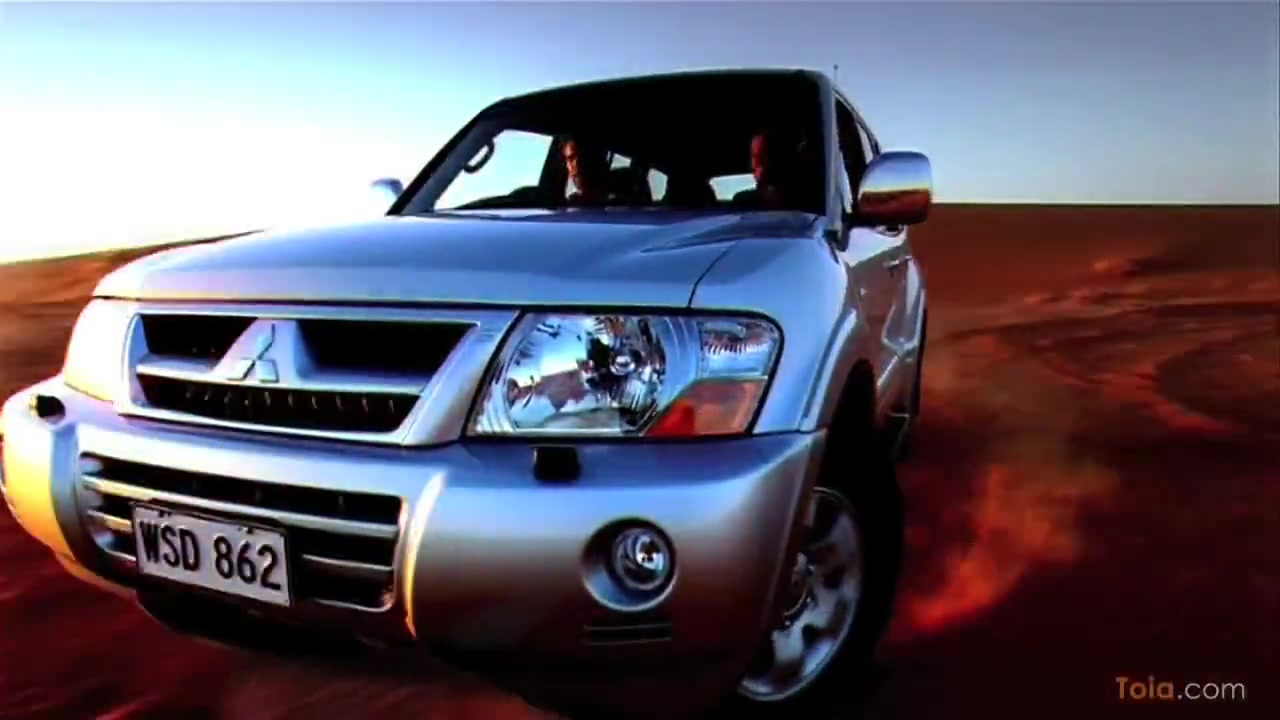car: (6, 65, 936, 715)
